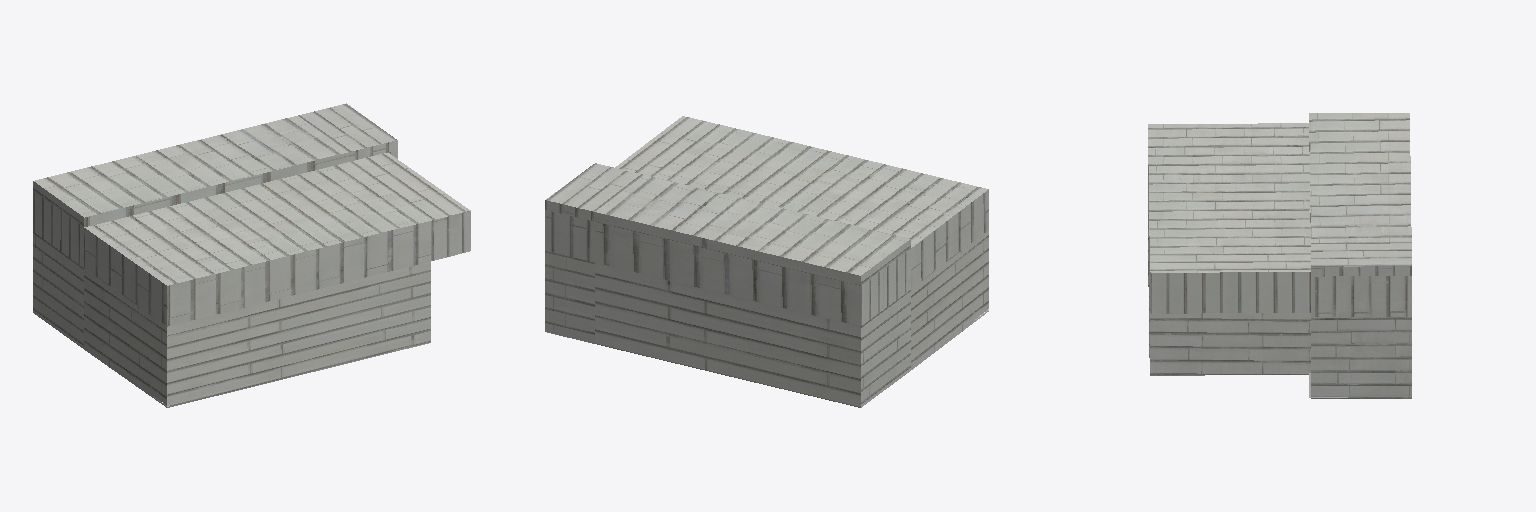
The picture shows the model from 3 angles: view 1: azimuth 30°, elevation 25°; view 2: azimuth 150°, elevation 25°; view 3: azimuth 270°, elevation 25°; orthographic projection.
Parts seen in each view (by area): view 1: Cube; view 2: Cube; view 3: Cube.
Boxes of the visible parts, box(x1,y1,x2,y2) form: Cube: box(33, 103, 470, 407); Cube: box(545, 116, 988, 407); Cube: box(1148, 113, 1411, 398).
Bounding box in the file's own units: 34.46 × 13.79 × 24.99.
2 materials, 2 textured.